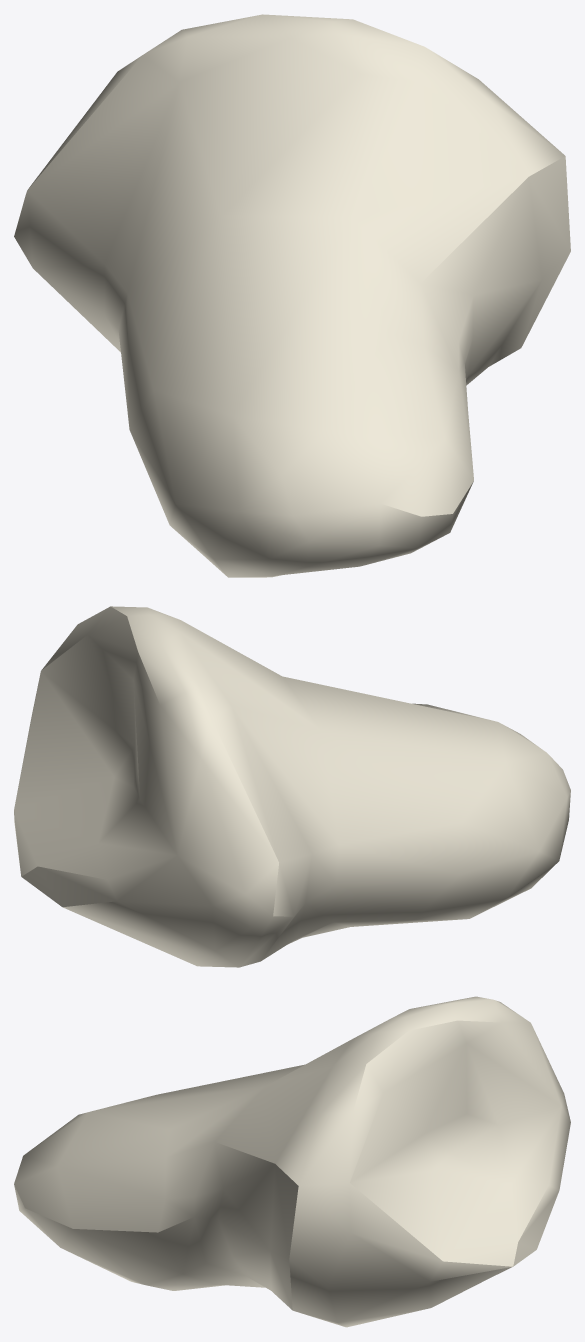
Rendered from fma32656_fj3191.glb.
The picture shows the model from 3 angles, top to bottom: view 1: azimuth 30°, elevation 25°; view 2: azimuth 150°, elevation 25°; view 3: azimuth 270°, elevation 25°; orthographic projection. The views are drawn at different scales.
Parts seen in each view (by area): view 1: FMA32656_FJ3191; view 2: FMA32656_FJ3191; view 3: FMA32656_FJ3191.
Part boxes in pixels (x1,y1,x2,y2): FMA32656_FJ3191: (14,14,570,577); FMA32656_FJ3191: (14,606,570,967); FMA32656_FJ3191: (14,996,570,1327).
Bounding box in the file's own units: 0.00879 × 0.007 × 0.0112.
